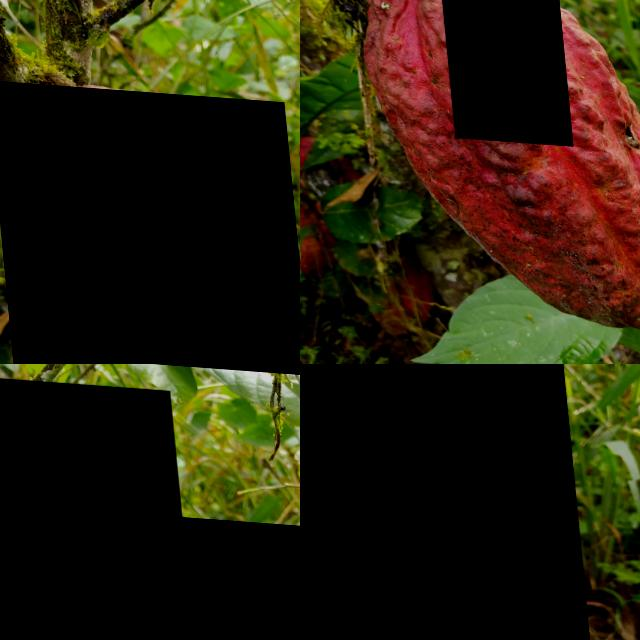Monilia: (435, 0, 566, 141)
Sana: (0, 78, 300, 364), (300, 364, 588, 640), (0, 371, 196, 640), (61, 503, 300, 640)
